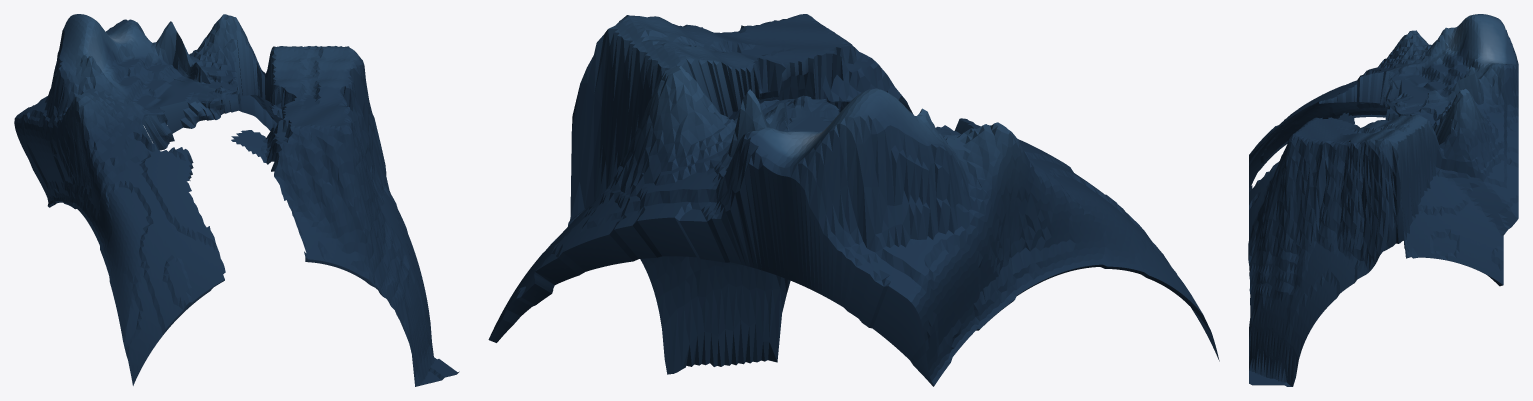
File: citadel-master-terrain-r07.glb
3 views of the same model, side by side, from view 1: azimuth 30°, elevation 25°; view 2: azimuth 150°, elevation 25°; view 3: azimuth 270°, elevation 25° (orthographic). The views are drawn at different scales.
Parts seen in each view (by area): view 1: citadel-oskar-grid-mountain-surface, citadel-coastal-cliff-seal; view 2: citadel-oskar-grid-mountain-surface, citadel-coastal-cliff-seal; view 3: citadel-oskar-grid-mountain-surface, citadel-coastal-cliff-seal.
Boxes of the visible parts, x1,y1,x2,y2 form: citadel-oskar-grid-mountain-surface: (14,14,459,386); citadel-coastal-cliff-seal: (140,31,286,180); citadel-oskar-grid-mountain-surface: (488,14,1219,386); citadel-coastal-cliff-seal: (682,57,973,134); citadel-oskar-grid-mountain-surface: (1248,14,1518,386); citadel-coastal-cliff-seal: (1319,71,1454,144).
Bounding box in the file's own units: 222 × 205 × 185.
